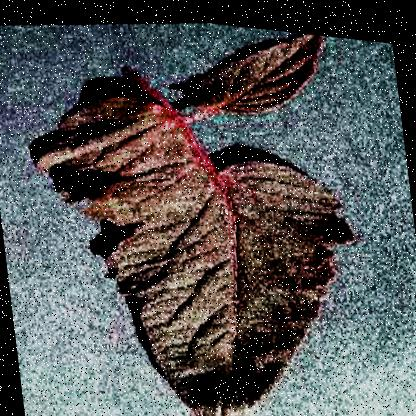Healthy: (16, 1, 380, 415)
